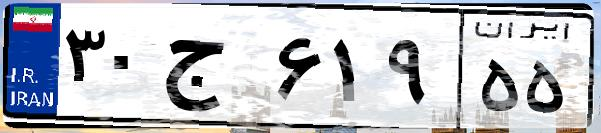0: (110, 28, 158, 98)
1: (330, 28, 385, 110)
3: (57, 26, 110, 100)
5: (475, 38, 525, 113), (525, 38, 570, 115)
6: (270, 28, 330, 110)
9: (385, 28, 445, 110)
ج: (158, 20, 270, 120)
